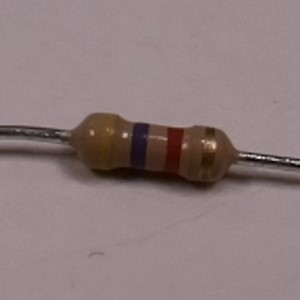gold_band: (194, 124, 218, 186)
red_band: (159, 123, 187, 178)
violet_band: (126, 121, 152, 172)
yellow_band: (91, 110, 121, 173)
